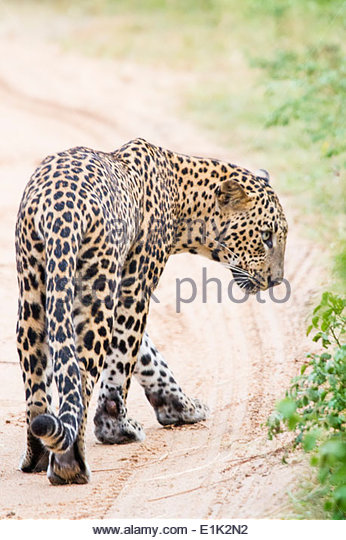leopard: (15, 134, 293, 488)
